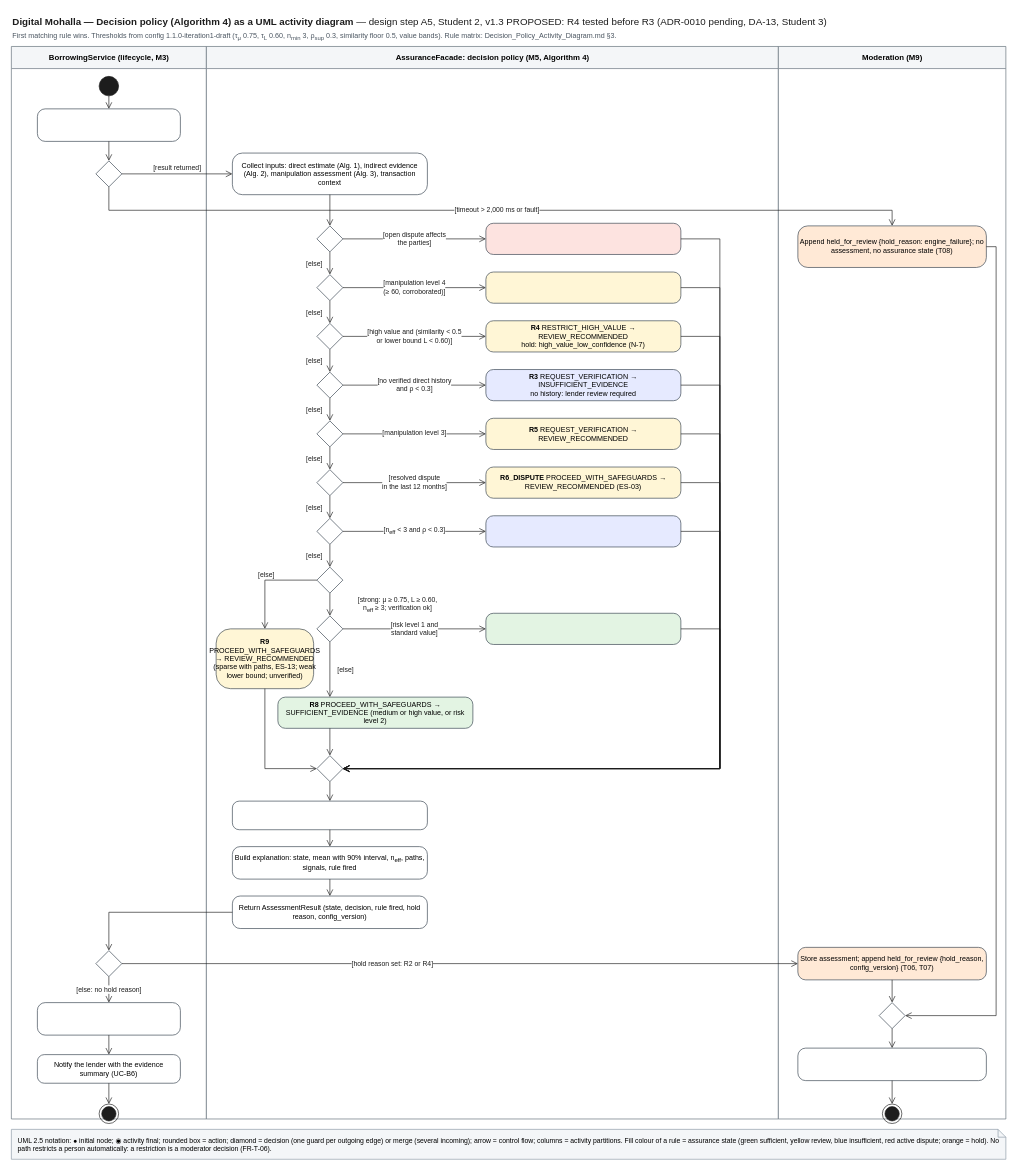
This 1017x1171 diagram has some shape labels left out. The shapes that lost their labels are listed below. From the top down, each one's centre as x and y in pixels, then its label:
At point 108,124: "Call assess(request); start 2,000 ms timer".
At point 583,238: "R1 ESCALATE → ACTIVE_DISPUTE not held: the dispute has its own case (D12)".
At point 583,287: "R2 ESCALATE → REVIEW_RECOMMENDED hold: manipulation_risk (ADR-0007)".
At point 583,531: "R6_SPARSE REQUEST_VERIFICATION → INSUFFICIENT_EVIDENCE (ADR-0008)".
At point 583,628: "R7 PROCEED → SUFFICIENT_EVIDENCE".
At point 329,815: "Select safeguards (value band, interval width)".
At point 108,1018: "Store assessment; append assessment_generated (→ ASSESSED, T05)".
At point 891,1064: "Open escalation case with evidence trail (D6); notify moderators".
